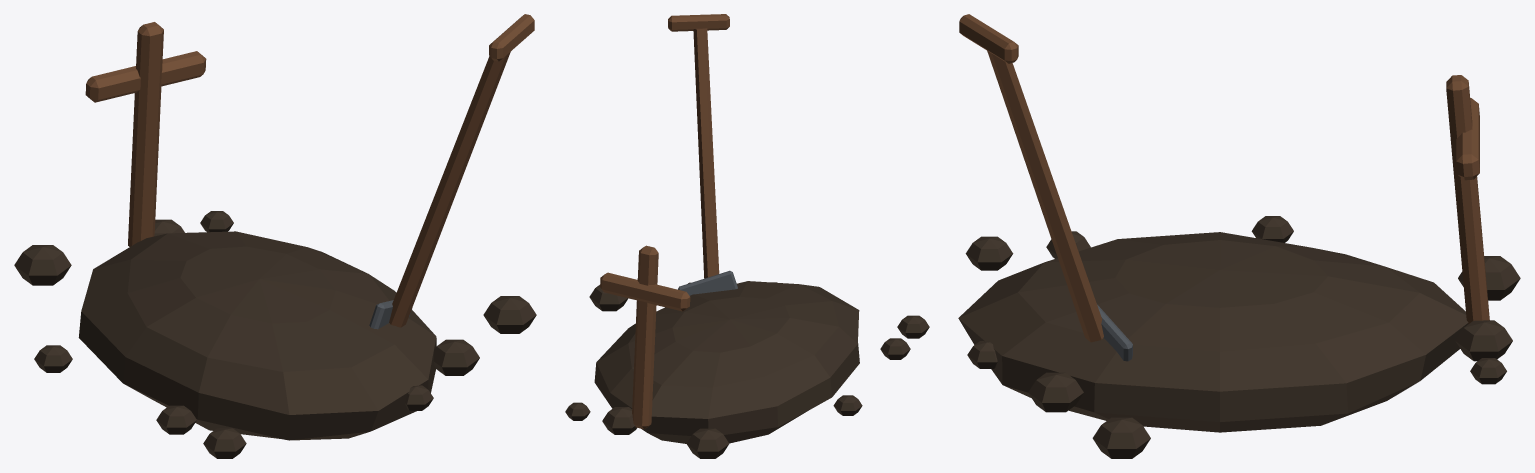
File: fresh_grave.glb
3 views of the same model, side by side, from view 1: azimuth 30°, elevation 25°; view 2: azimuth 150°, elevation 25°; view 3: azimuth 270°, elevation 25° (orthographic). The views are drawn at different scales.
Parts seen in each view (by area): view 1: FreshGrave; view 2: FreshGrave; view 3: FreshGrave.
Boxes of the visible parts, <box> form: FreshGrave: <box>14,14,536,458</box>; FreshGrave: <box>565,14,929,458</box>; FreshGrave: <box>958,14,1520,458</box>.
Bounding box in the file's own units: 0.9469 × 0.8837 × 0.9977.
